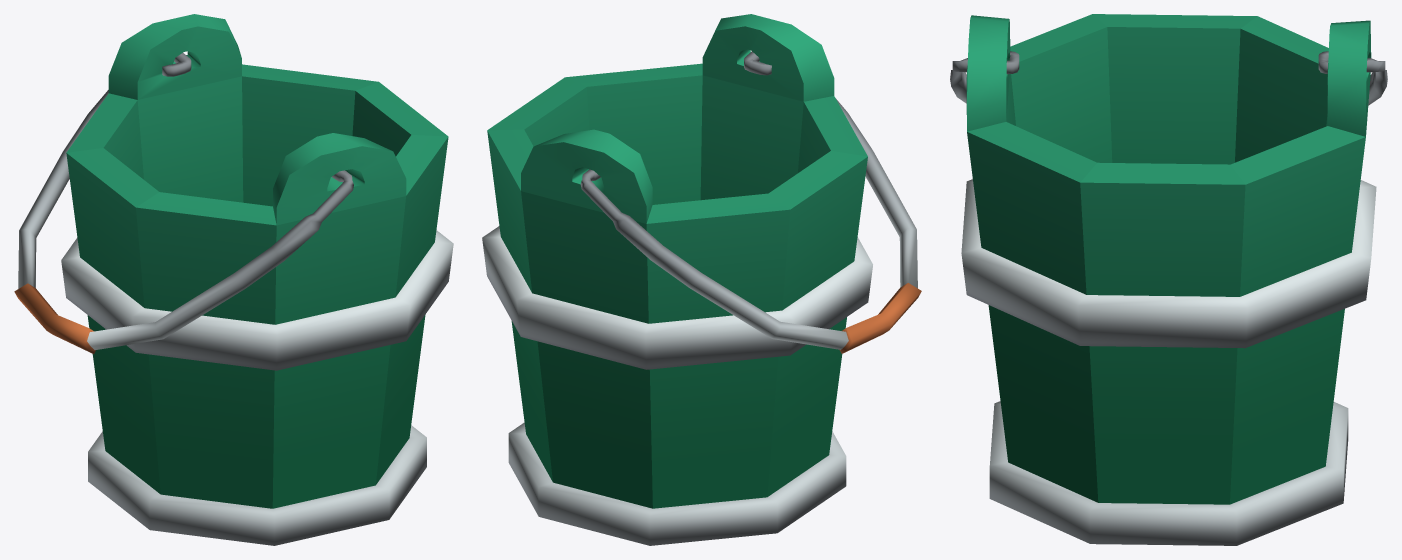
File: Bucket1.fbx
3 renders of one model, left to right at view 1: azimuth 30°, elevation 25°; view 2: azimuth 150°, elevation 25°; view 3: azimuth 270°, elevation 25°, orthographic. The views are drawn at different scales.
Visible parts, largest first — view 1: Bucket; view 2: Bucket; view 3: Bucket.
Boxes of the visible parts, x1,y1,x2,y2 form: Bucket: (14, 14, 453, 545); Bucket: (482, 14, 921, 545); Bucket: (950, 14, 1387, 545).
Size of the model in its own units: 0.425 by 0.4267 by 0.3831.
